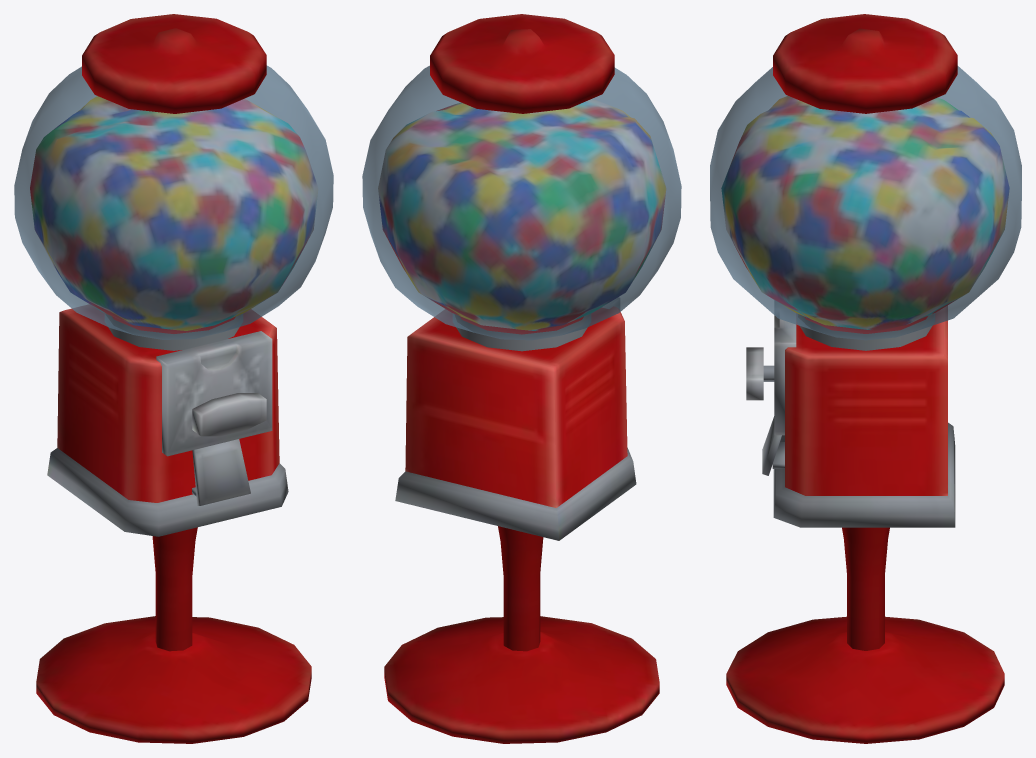
3 renders of one model, left to right at view 1: azimuth 30°, elevation 25°; view 2: azimuth 150°, elevation 25°; view 3: azimuth 270°, elevation 25°, orthographic.
Size of the model in its own units: 6.42 by 14.4 by 6.26.
Materials: 3 (2 with a texture image).
